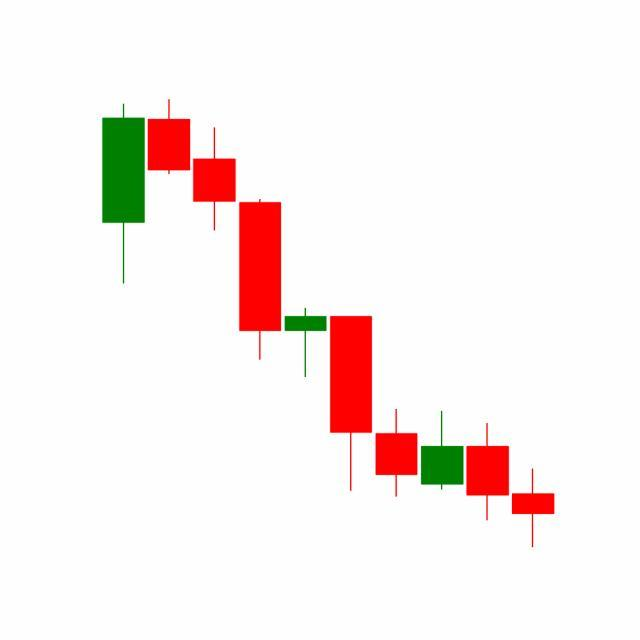Hikkake Pattern: (283, 306, 512, 524)
